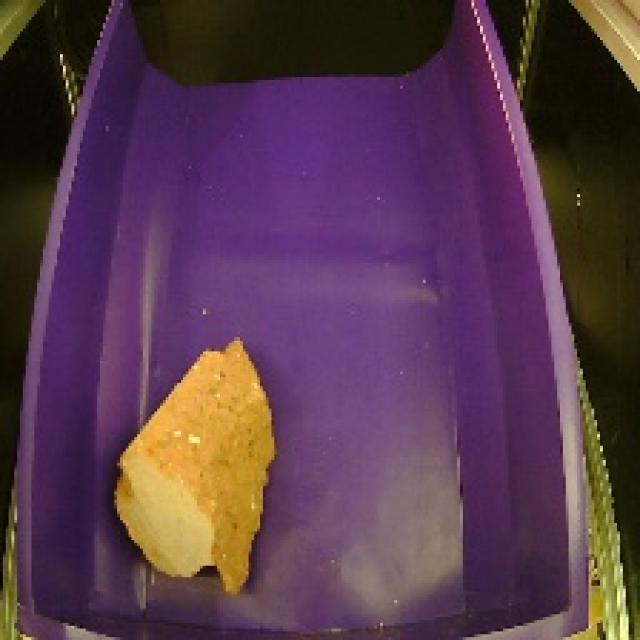brick: (101, 324, 284, 602)
